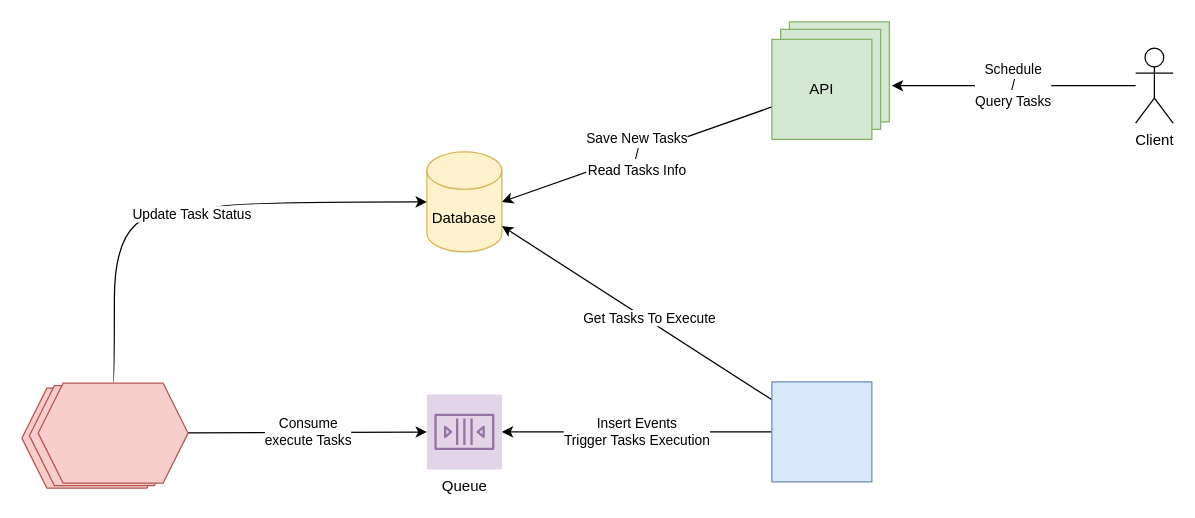
Some shapes in this 1195 by 518 pixel diagram are drawn without their labels. Each missing label, with the box of its shape:
Task Executer: (37, 382, 188, 483)
Task Triggerer: (771, 381, 872, 482)
